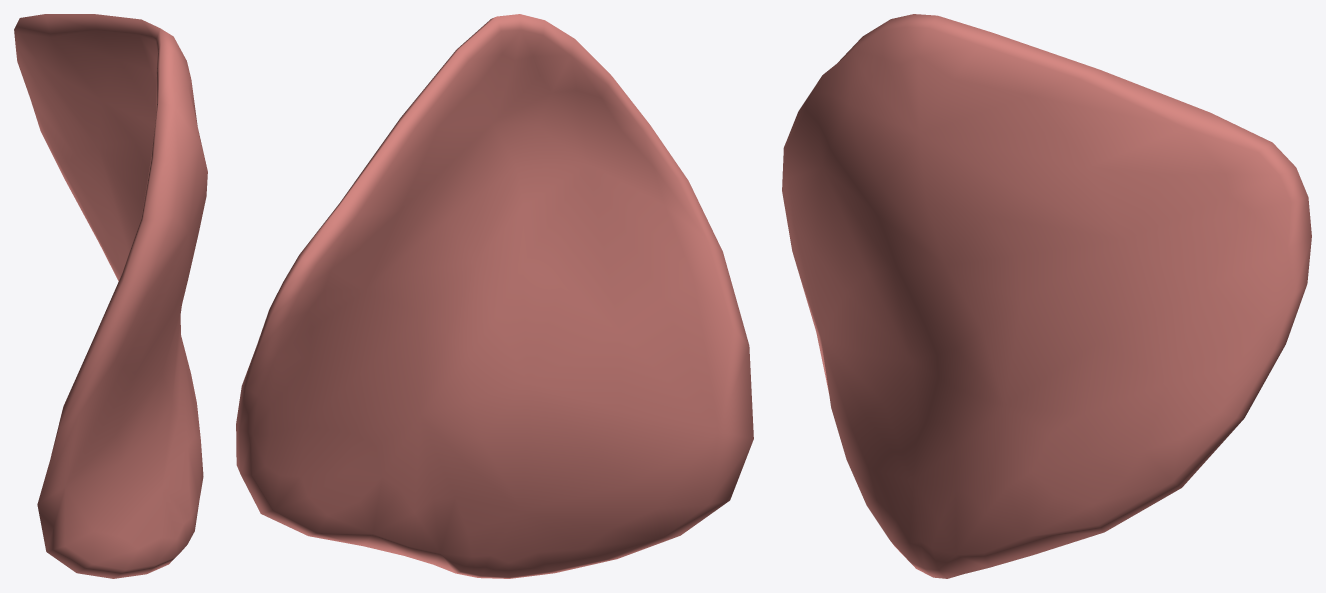
3 views of the same model, side by side, from view 1: azimuth 30°, elevation 25°; view 2: azimuth 150°, elevation 25°; view 3: azimuth 270°, elevation 25° (orthographic). The views are drawn at different scales.
Parts seen in each view (by area): view 1: ZA_91cb295b5efb0304; view 2: ZA_91cb295b5efb0304; view 3: ZA_91cb295b5efb0304.
Boxes of the visible parts, x1,y1,x2,y2 form: ZA_91cb295b5efb0304: [14, 14, 207, 578]; ZA_91cb295b5efb0304: [236, 14, 753, 578]; ZA_91cb295b5efb0304: [782, 14, 1311, 578].
Bounding box in the file's own units: 0.0058 × 0.0101 × 0.00875.
